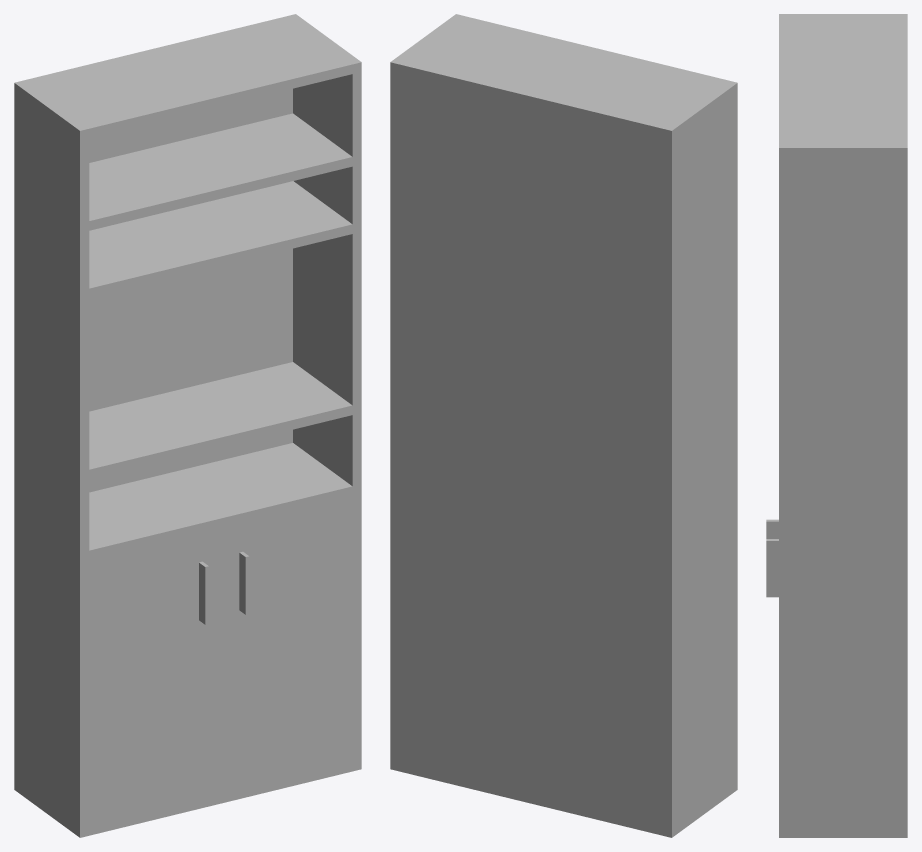
Rendered from leftShelves.dae.
The picture shows the model from 3 angles, left to right: view 1: azimuth 30°, elevation 25°; view 2: azimuth 150°, elevation 25°; view 3: azimuth 270°, elevation 25°; orthographic projection. The views are drawn at different scales.
Visible parts, largest first — view 1: SketchUp (×6); view 2: SketchUp (×2); view 3: SketchUp (×2).
Part boxes in pixels (x1=…): SketchUp (×6): x1=14, y1=14, x2=361, y2=837; SketchUp (×2): x1=390, y1=14, x2=737, y2=837; SketchUp (×2): x1=766, y1=14, x2=907, y2=837.
Bounding box in the file's own units: 30.12 × 13.39 × 72.24.
2 materials, 1 textured.
